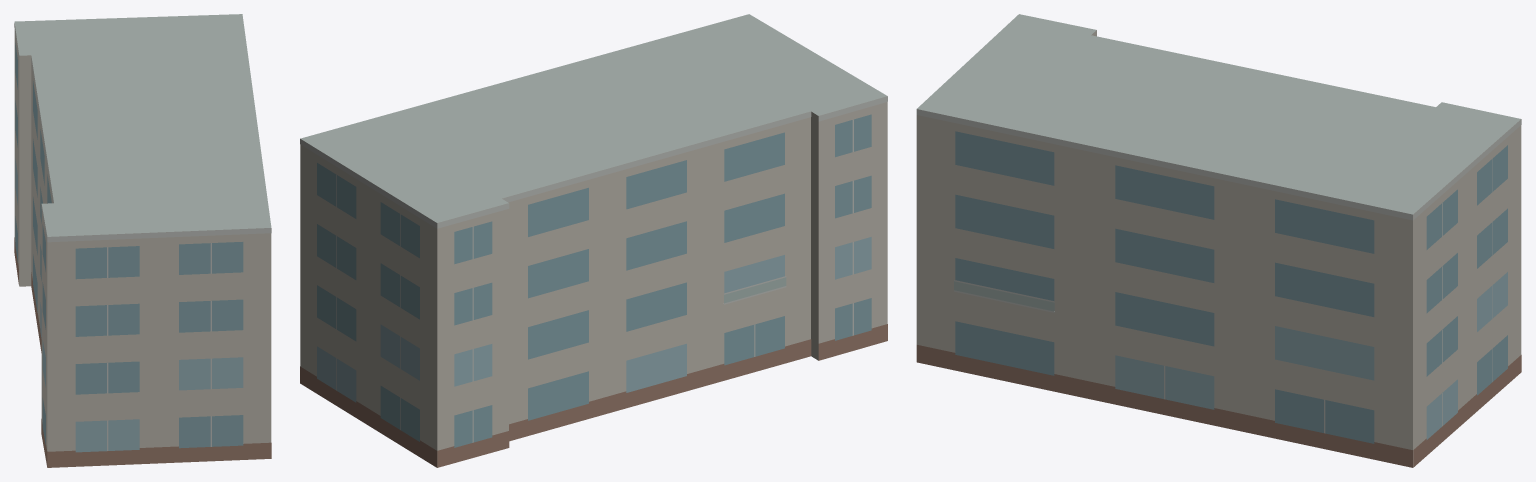
File: survey-upis-32890212.glb
3 renders of one model, left to right at view 1: azimuth 30°, elevation 25°; view 2: azimuth 150°, elevation 25°; view 3: azimuth 270°, elevation 25°, orthographic. The views are drawn at different scales.
Parts seen in each view (by area): view 1: survey-upis-32890212.tmp; view 2: survey-upis-32890212.tmp; view 3: survey-upis-32890212.tmp.
Part boxes in pixels (x1=…): survey-upis-32890212.tmp: x1=14, y1=14, x2=271, y2=467; survey-upis-32890212.tmp: x1=300, y1=14, x2=887, y2=467; survey-upis-32890212.tmp: x1=916, y1=14, x2=1521, y2=467.
Bounding box in the file's own units: 17.84 × 10.5 × 22.73.
